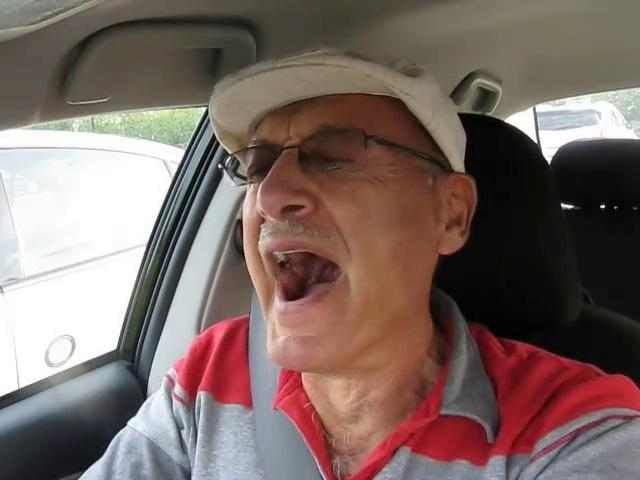close_eyeL: (228, 142, 287, 192)
close_eyeR: (292, 136, 371, 184)
yawn: (249, 234, 361, 320)
